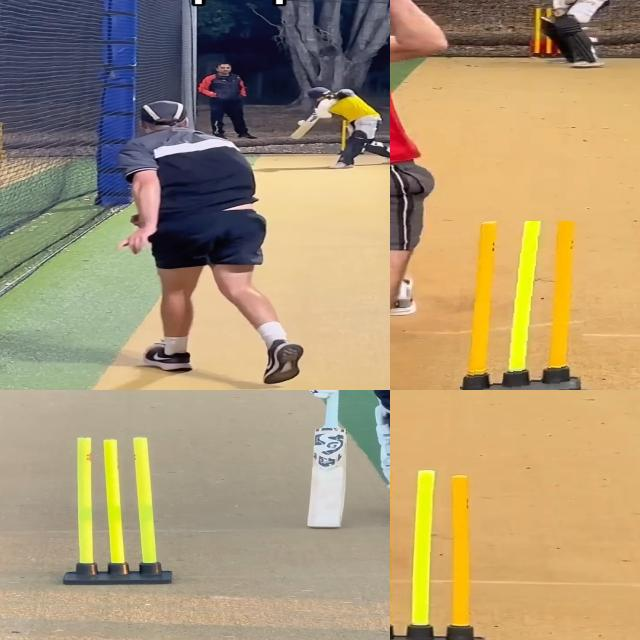Cricket ball: (297, 120, 305, 126)
Stumps: (459, 221, 592, 390), (390, 466, 489, 640), (60, 436, 176, 584)
